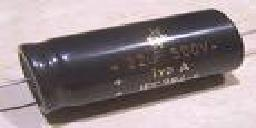Electrolytic Capacitor: (13, 6, 256, 106)
